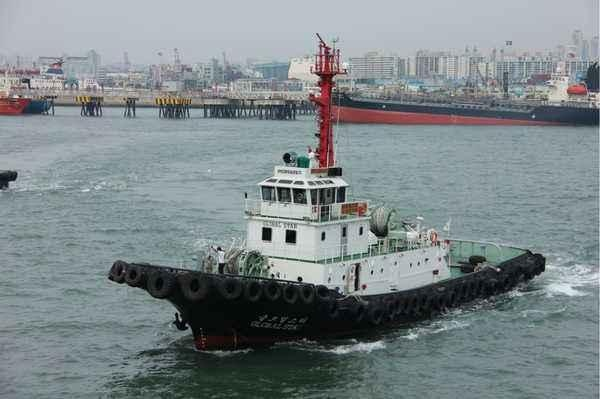otherboat: (108, 150, 548, 347)
